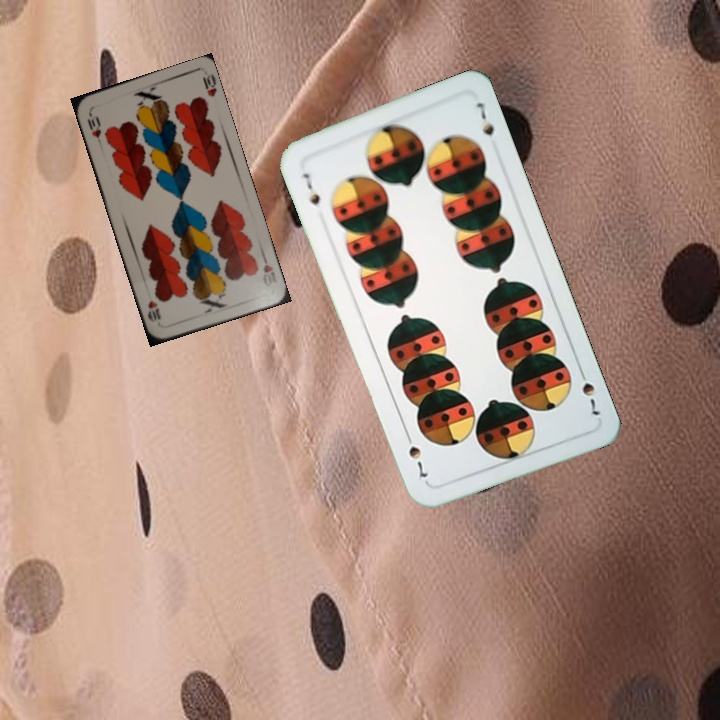H10: (258, 250, 280, 289), (83, 108, 104, 141)
S7: (575, 364, 604, 418), (299, 169, 323, 208)
